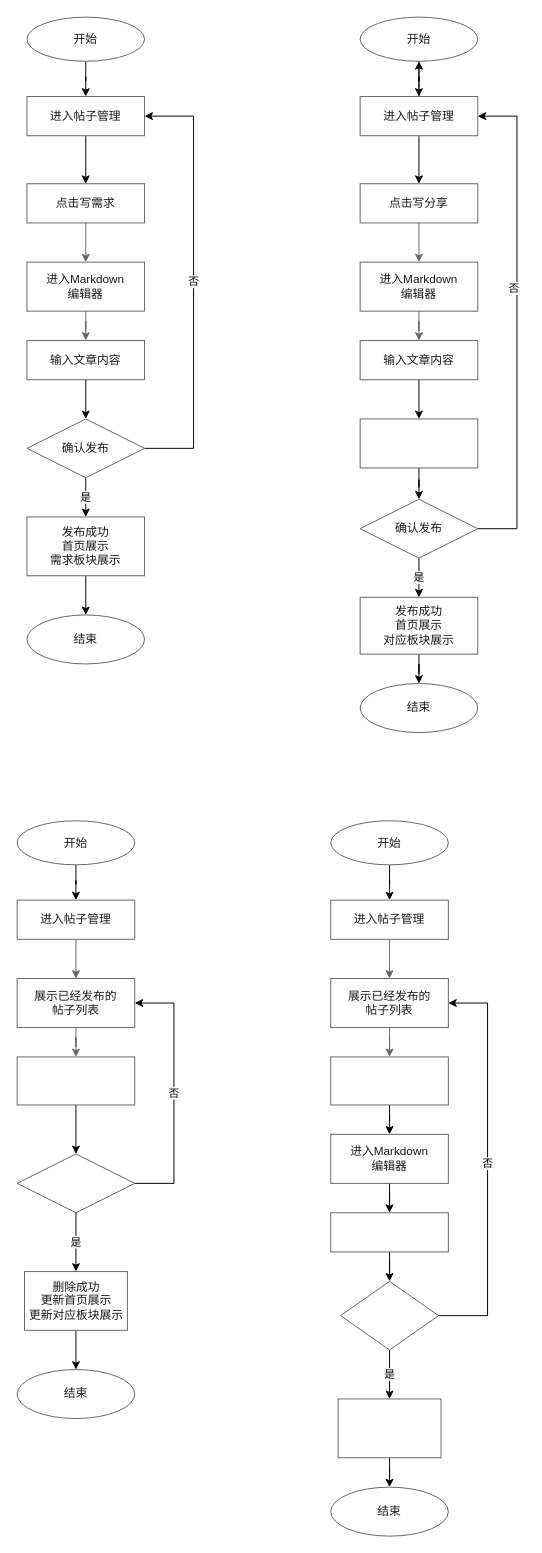
The diagram is 542 pixels wide and 1553 high, and some of its shapes have lost their labels. The shapes that lost their labels are listed below. From the top down, each one's centre as x and y in pixels, then its label:
pixel 418 443: 选择分享类型
pixel 75 1080: 选择删除 某篇帖子
pixel 389 1080: 选择编辑 某篇帖子
pixel 75 1183: 确认删除
pixel 389 1232: 输入 修改内容
pixel 389 1315: 确认保存
pixel 389 1428: 更新成功 更新首页展示 更新对应板块展示
